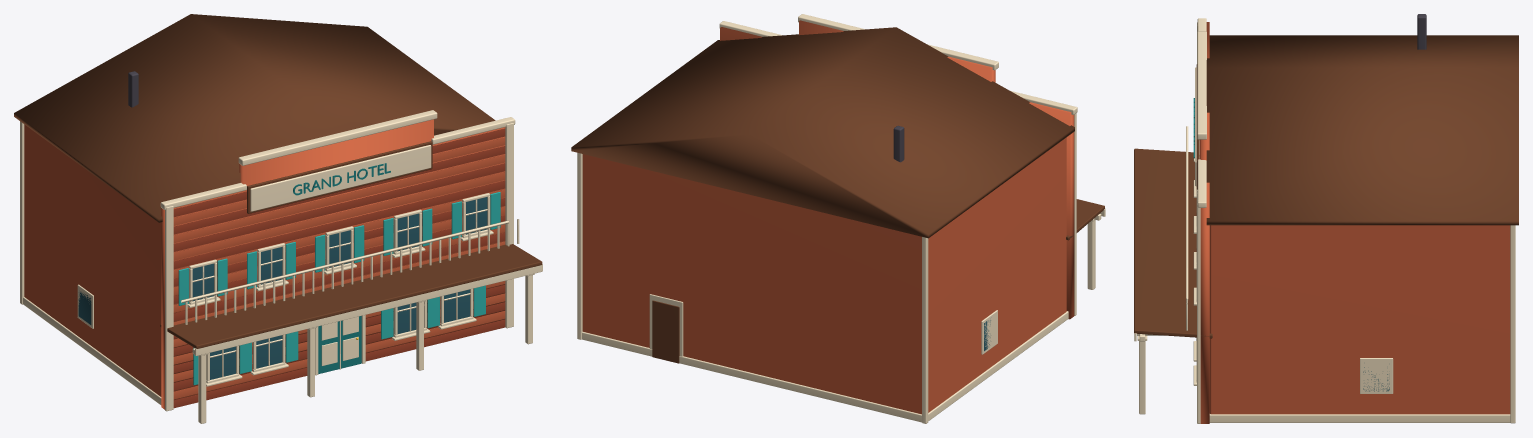
Rendered from gulch_hotel.glb.
The picture shows the model from 3 angles, left to right: view 1: azimuth 30°, elevation 25°; view 2: azimuth 150°, elevation 25°; view 3: azimuth 270°, elevation 25°; orthographic projection. The views are drawn at different scales.
Visible parts, largest first — view 1: Hotel; view 2: Hotel; view 3: Hotel.
Part boxes in pixels (left/top/right/bottom): Hotel: left=14, top=14, right=542, bottom=423; Hotel: left=571, top=14, right=1105, bottom=423; Hotel: left=1134, top=14, right=1518, bottom=423.
Size of the model in its own units: 14.5 by 9.64 by 12.7.
